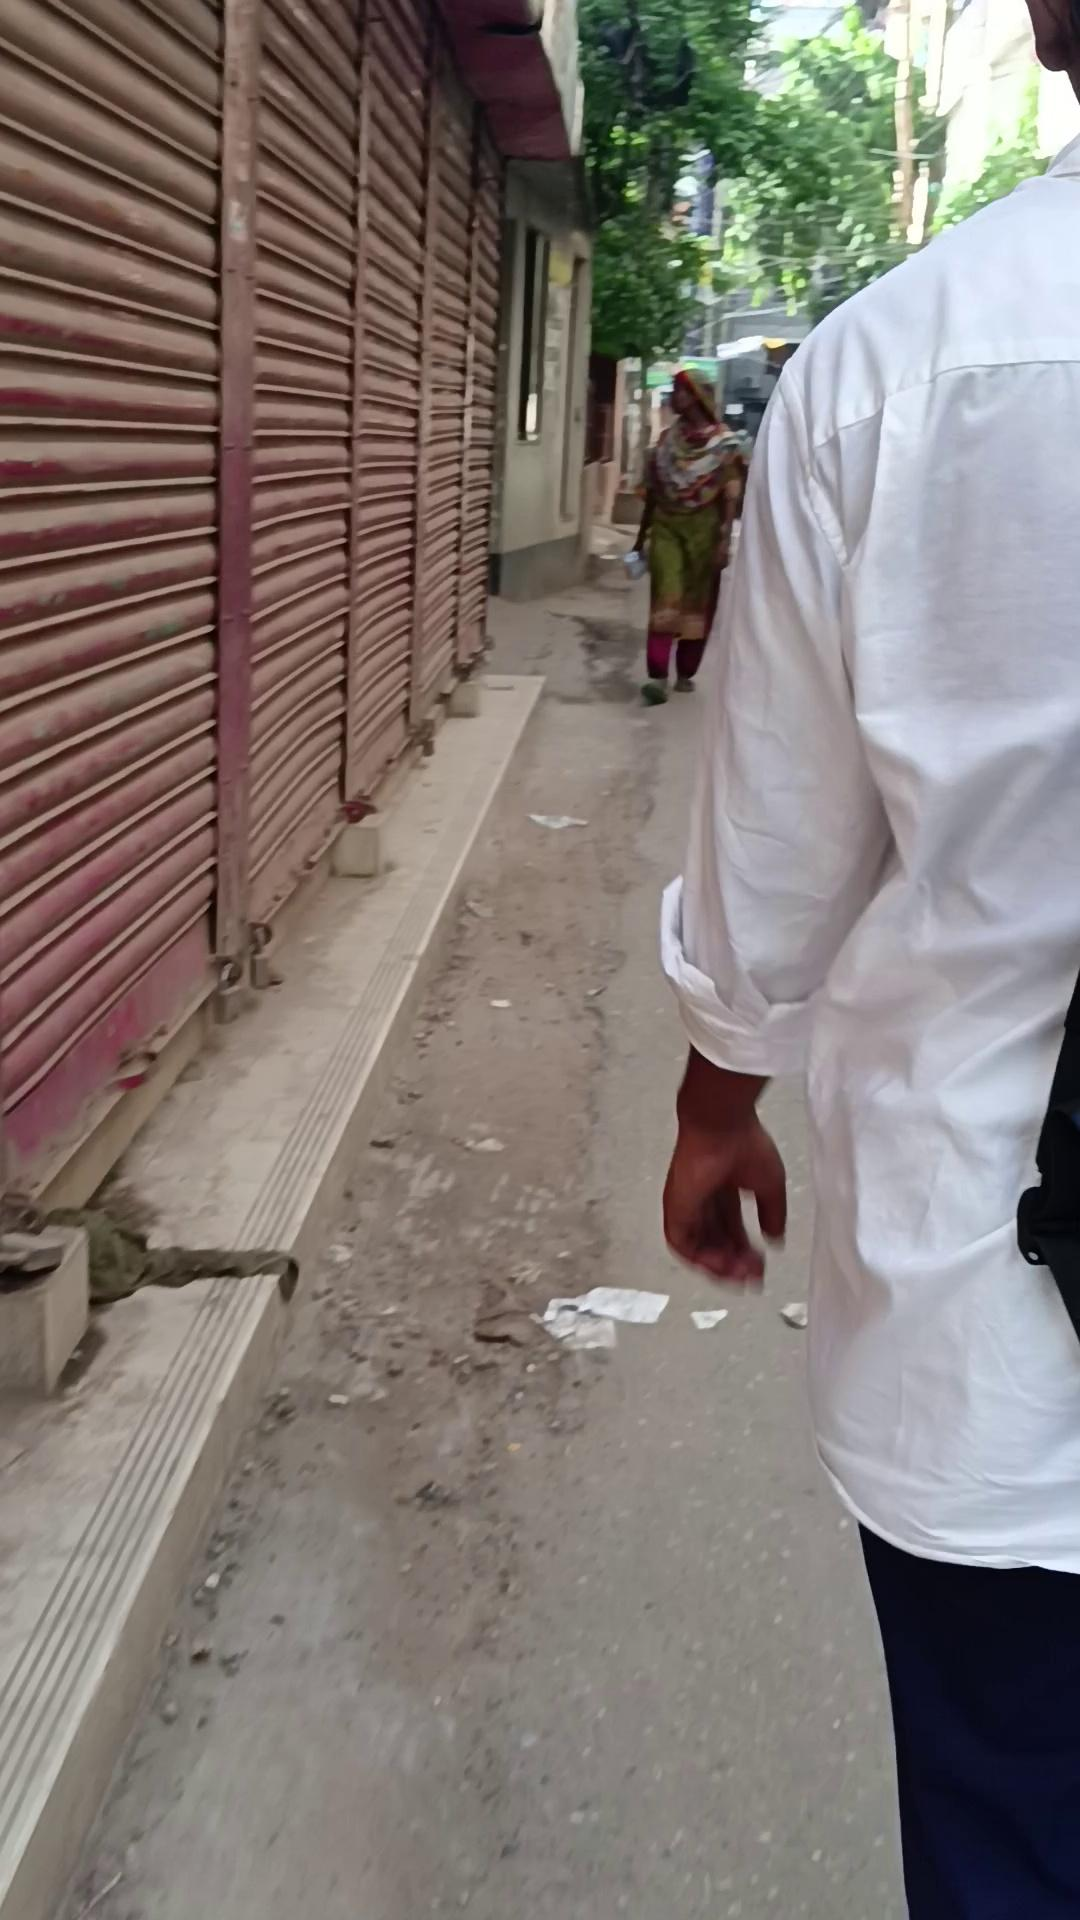Crosswalk: (3, 667, 547, 1913)
Muddy road: (655, 0, 1079, 1917), (625, 367, 745, 705)
Obstacle: (210, 1, 262, 1021)
